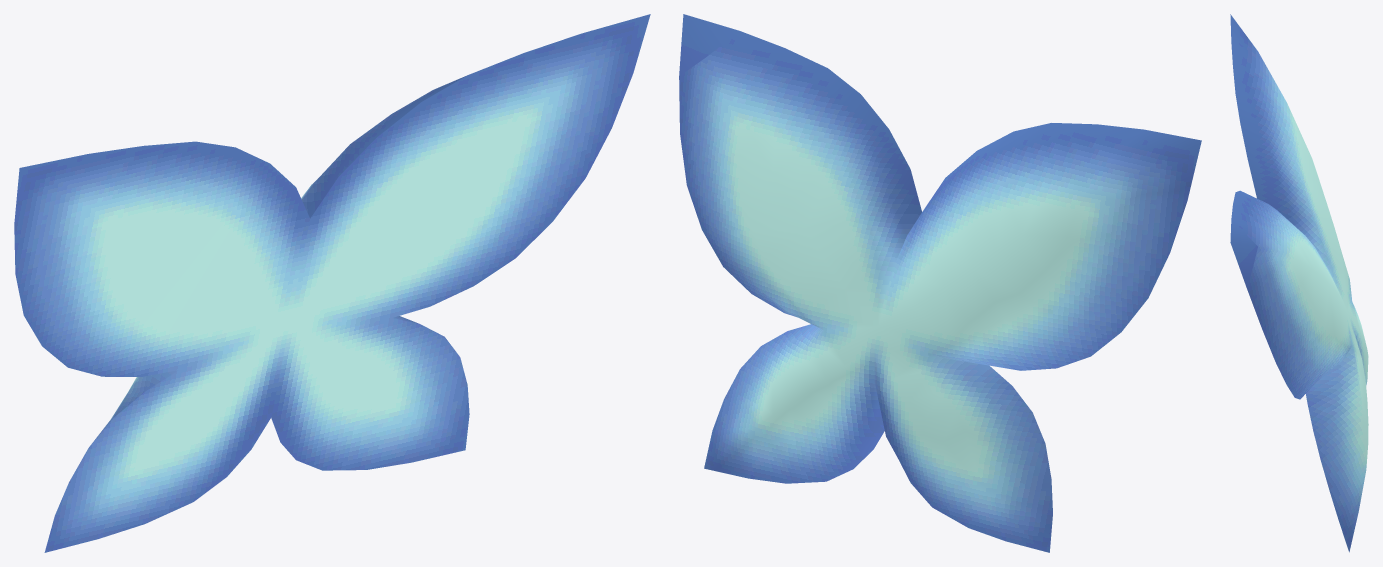
The model's file is ps2_save-icons_akaiito.glb.
The picture shows the model from 3 angles, left to right: view 1: azimuth 30°, elevation 25°; view 2: azimuth 150°, elevation 25°; view 3: azimuth 270°, elevation 25°; orthographic projection. The views are drawn at different scales.
Parts seen in each view (by area): view 1: game.ico; view 2: game.ico; view 3: game.ico.
Boxes of the visible parts, x1,y1,x2,y2 form: game.ico: (14, 14, 650, 552); game.ico: (679, 14, 1201, 552); game.ico: (1230, 14, 1368, 552).
Bounding box in the file's own units: 4.27 × 3.04 × 1.09.
1 material, 1 textured.
